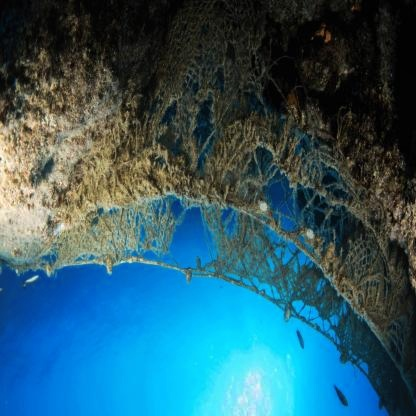net: (61, 12, 387, 271)
